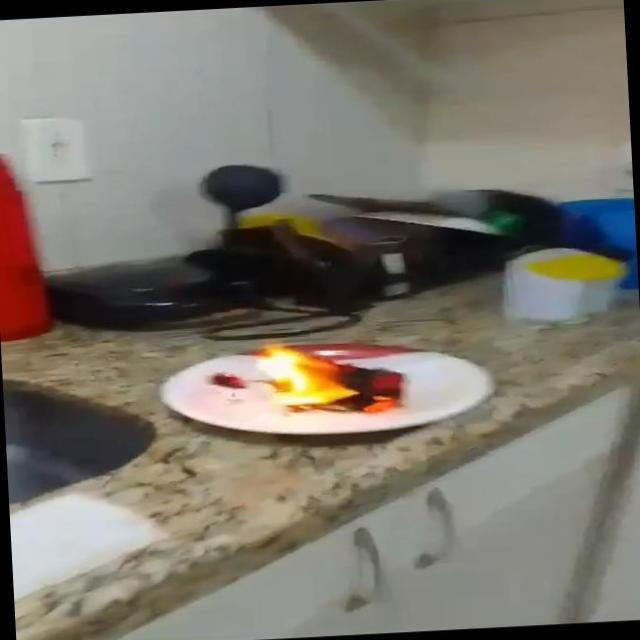Fire: (254, 333, 408, 422)
